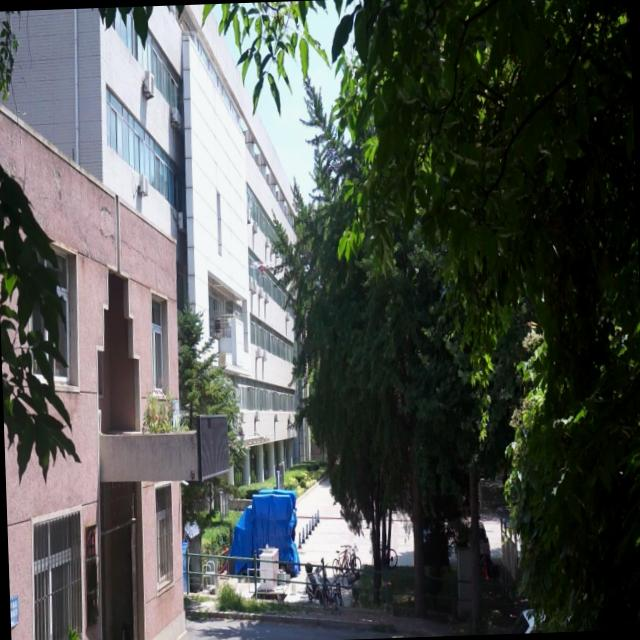drone: (248, 255, 274, 281)
